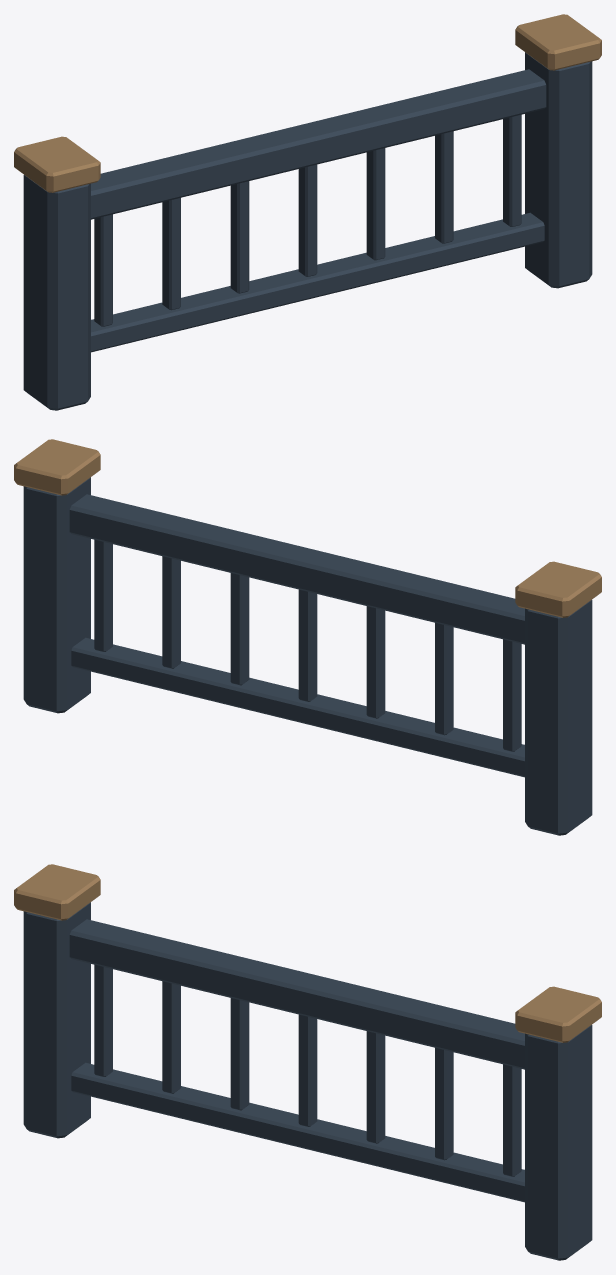
Rendered from railing-straight.glb.
The picture shows the model from 3 angles, top to bottom: view 1: azimuth 30°, elevation 25°; view 2: azimuth 150°, elevation 25°; view 3: azimuth 330°, elevation 25°; orthographic projection.
Parts seen in each view (by area): view 1: railing-straight__body; view 2: railing-straight__body; view 3: railing-straight__body.
Part boxes in pixels (bbox=[...]): railing-straight__body: bbox=[14, 14, 601, 410]; railing-straight__body: bbox=[14, 439, 601, 835]; railing-straight__body: bbox=[14, 864, 601, 1260].
Bounding box in the file's own units: 2.04 × 0.85 × 0.24.
